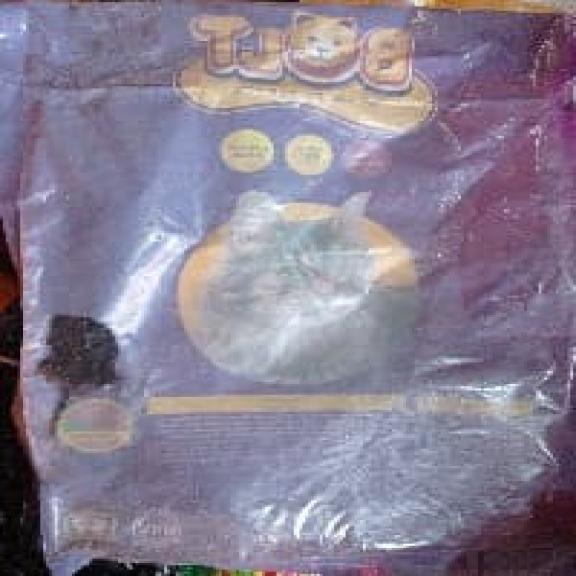Plastik: (3, 1, 573, 574)
